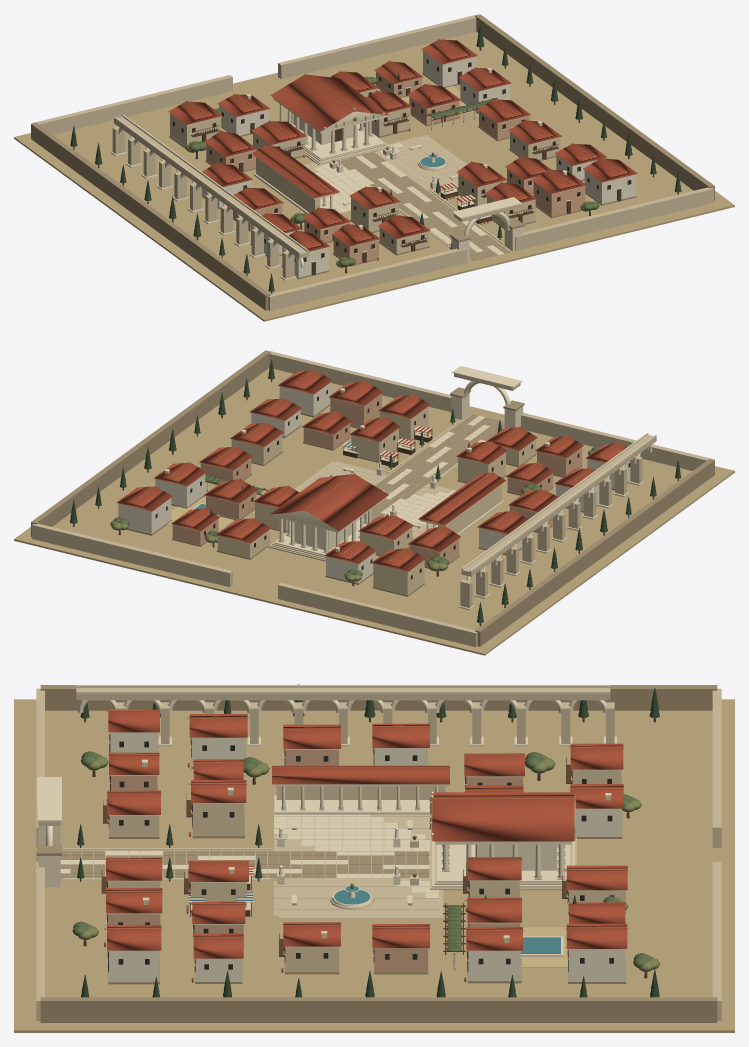
File: rim-city.glb
The picture shows the model from 3 angles, top to bottom: view 1: azimuth 30°, elevation 25°; view 2: azimuth 150°, elevation 25°; view 3: azimuth 270°, elevation 25°; orthographic projection. The views are drawn at different scales.
Parts seen in each view (by area): view 1: Město • earth, Město • roof, Město • stone, Město • shadow, Město • light, Město • plaster, Město • white, Město • peach, Město • wood, Město • cypress, Město • dark, Město • roofLight (+1 smaller); view 2: Město • earth, Město • roof, Město • stone, Město • shadow, Město • light, Město • plaster, Město • white, Město • peach, Město • cypress, Město • roofLight, Město • wood, Město • leafLight (+1 smaller); view 3: Město • earth, Město • roof, Město • shadow, Město • light, Město • stone, Město • white, Město • plaster, Město • peach, Město • roofLight, Město • cypress, Město • wood, Město • leaf (+4 smaller).
Part boxes in pixels (x1,y1,x2,y2): Město • earth: (14, 31, 734, 321); Město • roof: (168, 39, 637, 260); Město • stone: (32, 15, 713, 310); Město • shadow: (31, 14, 714, 310); Město • light: (111, 52, 636, 280); Město • plaster: (170, 70, 566, 253); Město • white: (202, 51, 636, 277); Město • peach: (206, 72, 585, 263); Město • wood: (73, 47, 678, 293); Město • cypress: (70, 24, 681, 291); Město • dark: (173, 59, 630, 274); Město • roofLight: (186, 39, 620, 259); Město • earth: (14, 368, 734, 655); Město • roof: (116, 370, 626, 571); Město • stone: (32, 351, 713, 647); Město • shadow: (31, 350, 714, 646); Město • light: (117, 366, 656, 610); Město • plaster: (165, 390, 549, 595); Město • white: (118, 382, 630, 583); Město • peach: (172, 393, 582, 566); Město • cypress: (70, 359, 681, 623); Město • roofLight: (134, 369, 620, 561); Město • wood: (73, 379, 678, 625); Město • leafLight: (110, 433, 593, 581); Město • earth: (14, 699, 734, 1032); Město • roof: (104, 709, 627, 982); Město • shadow: (36, 685, 717, 1022); Město • light: (36, 685, 625, 970); Město • stone: (36, 688, 721, 1020); Město • white: (109, 733, 625, 981); Město • plaster: (108, 763, 625, 971); Město • peach: (108, 750, 522, 971); Město • roofLight: (104, 710, 627, 981); Město • cypress: (77, 684, 659, 997); Město • wood: (80, 718, 655, 978); Město • leaf: (72, 751, 649, 967).
Size of the model in its own units: 176 by 17.85 by 162.
